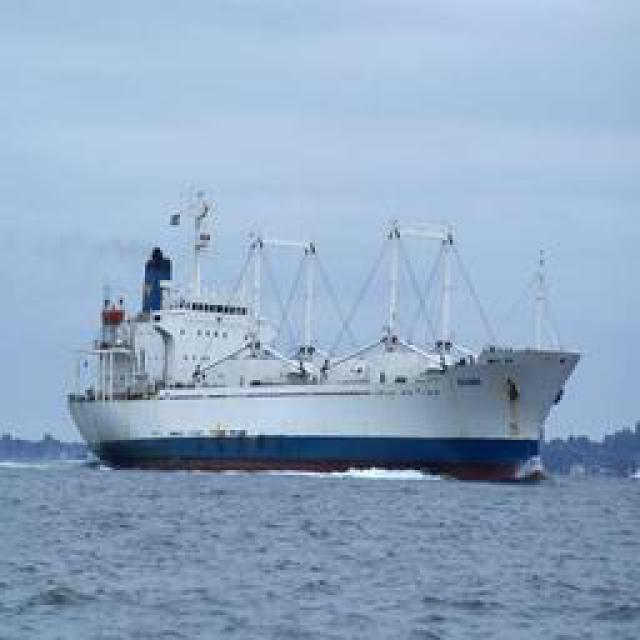Ship: (61, 233, 591, 471)
